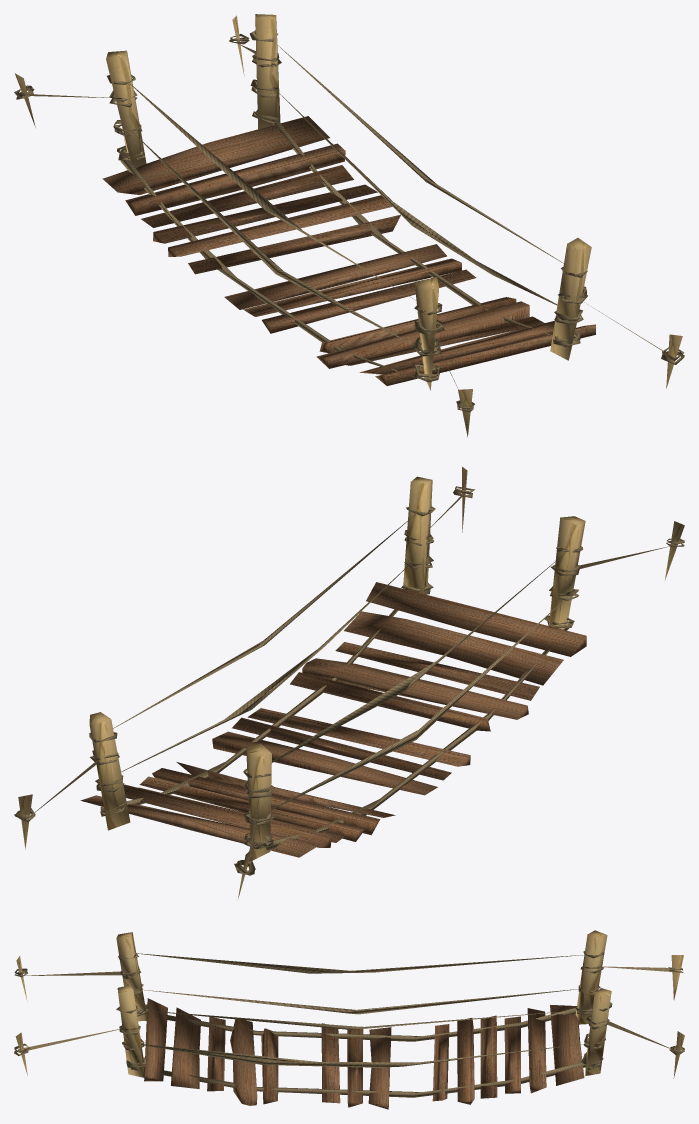
Rendered from rope_bridge_lod1.glb.
The picture shows the model from 3 angles, top to bottom: view 1: azimuth 30°, elevation 25°; view 2: azimuth 150°, elevation 25°; view 3: azimuth 270°, elevation 25°; orthographic projection. The views are drawn at different scales.
Parts seen in each view (by area): view 1: rope_bridge; view 2: rope_bridge; view 3: rope_bridge.
Boxes of the visible parts, x1,y1,x2,y2 form: rope_bridge: (14, 14, 684, 437); rope_bridge: (14, 467, 684, 900); rope_bridge: (14, 930, 684, 1109).
Bounding box in the file's own units: 1.85 × 1.09 × 5.99.
3 materials, 3 textured.
